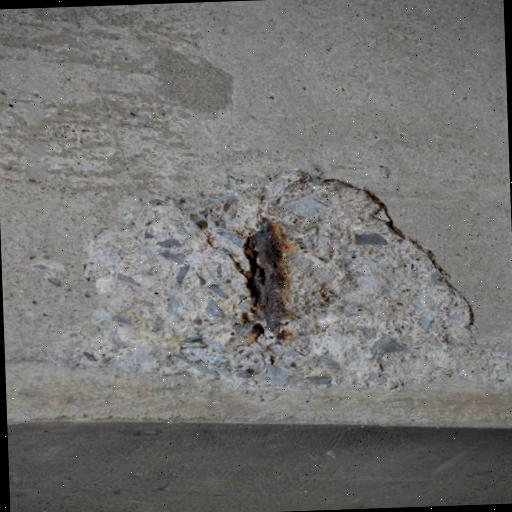spalling: (45, 168, 474, 388)
